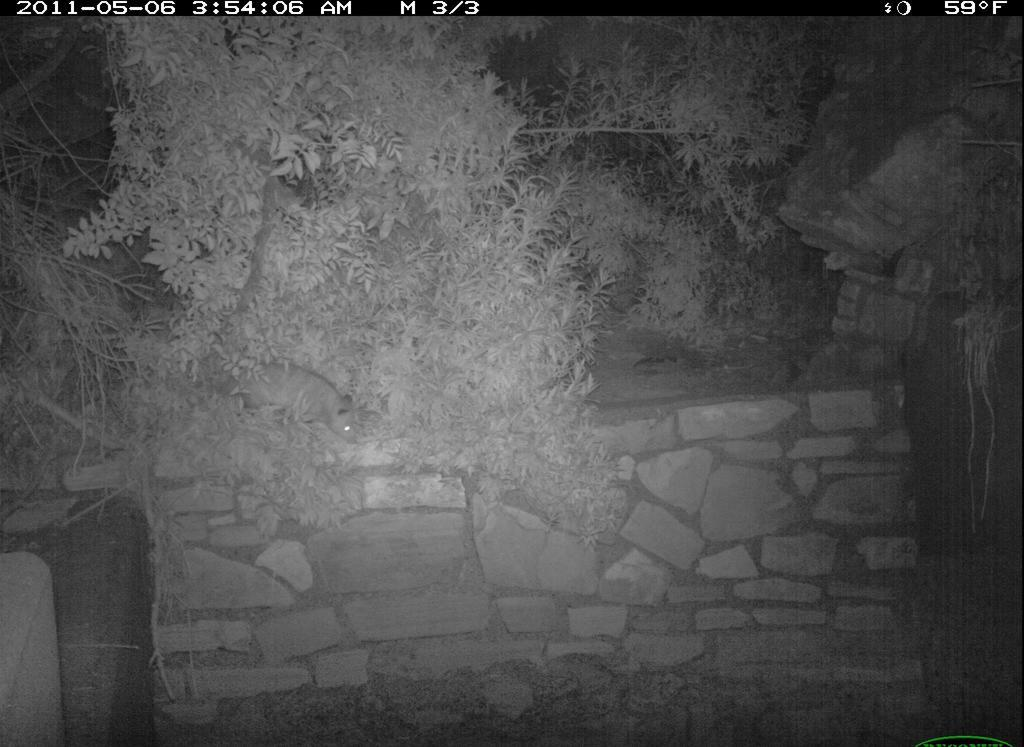opossum: (239, 358, 376, 457)
